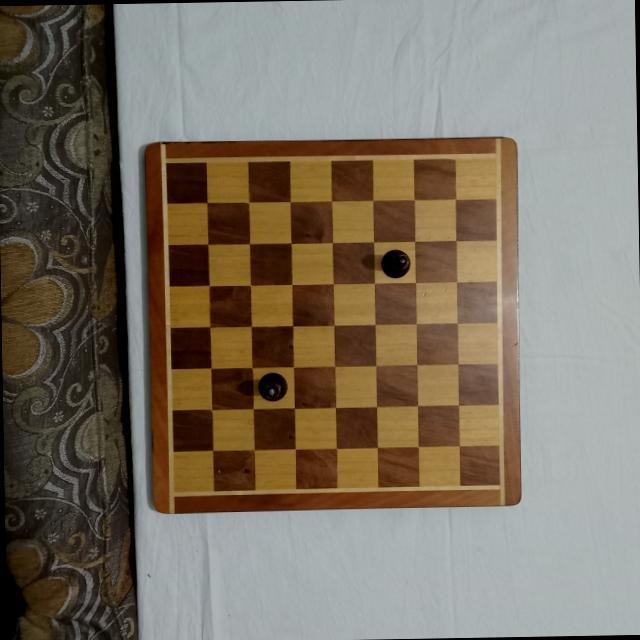black-bishop: (380, 247, 412, 278), (255, 370, 287, 401)
